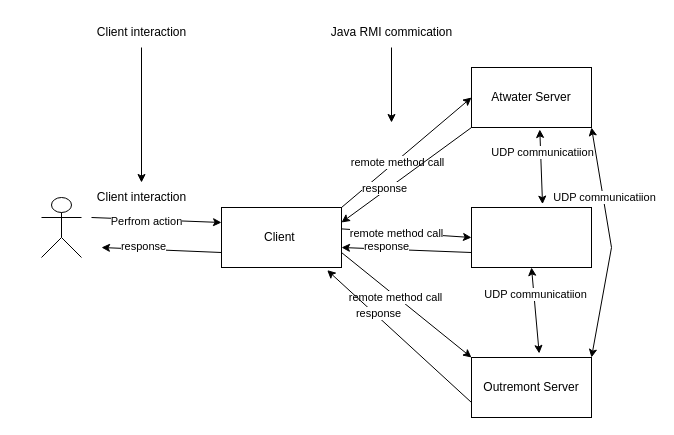
This 674x435 diagram has some shape labels left out. Each missing label, with the centre of its shape:
"Admin/Customer" goes at point 61,227.
"Verdun Server" goes at point 531,237.
